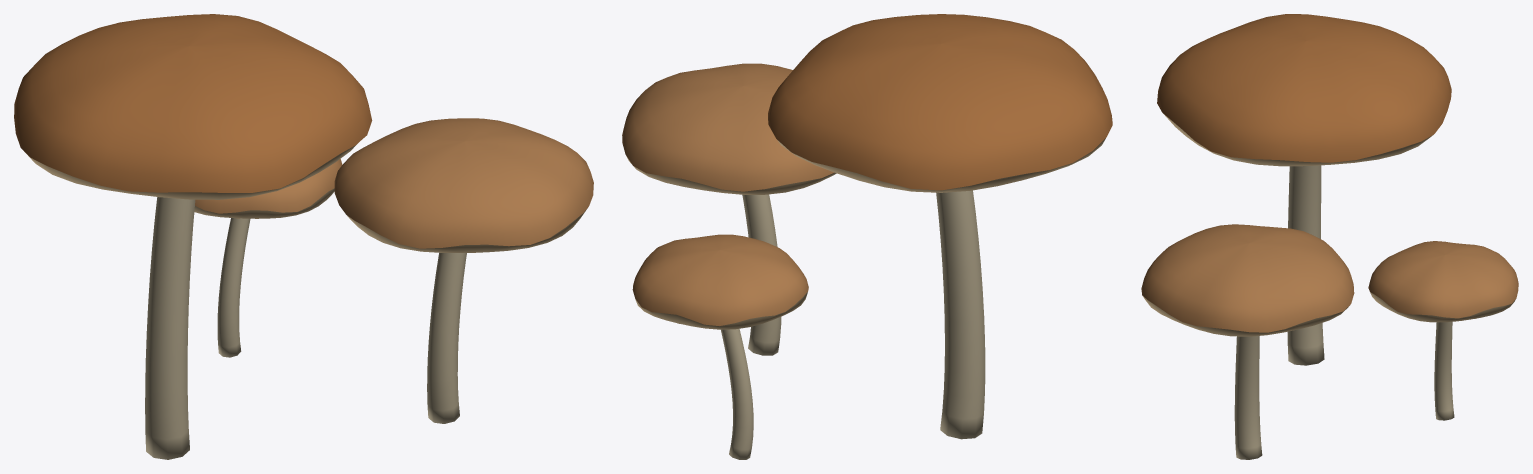
File: meadow_mushrooms.hi.glb
3 renders of one model, left to right at view 1: azimuth 30°, elevation 25°; view 2: azimuth 150°, elevation 25°; view 3: azimuth 270°, elevation 25°, orthographic. The views are drawn at different scales.
Parts seen in each view (by area): view 1: body; view 2: body; view 3: body.
Boxes of the visible parts, box(x1,y1,x2,y2) form: body: box(14, 14, 593, 459); body: box(622, 14, 1112, 459); body: box(1141, 14, 1518, 459).
Size of the model in its own units: 0.2979 by 0.2216 by 0.231.
